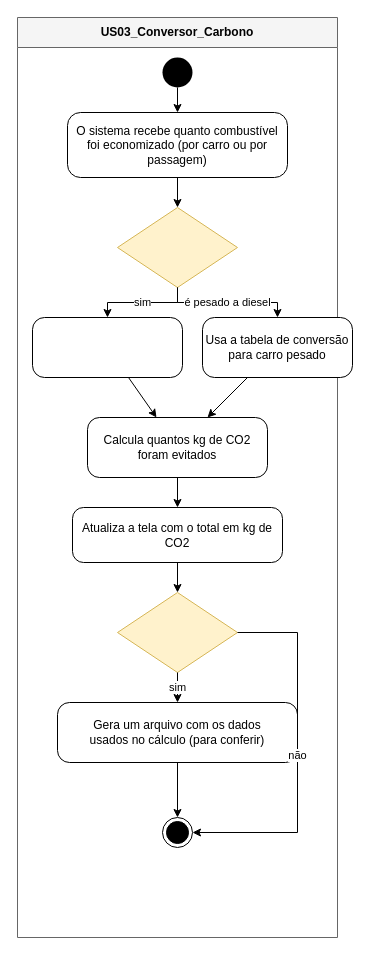
This 370x955 diagram has some shape labels left out. Here are the shapes that lost their labels. From the top down, the box of each, then its label:
(116, 206, 238, 288): É carro leve flex?
(32, 316, 182, 378): Usa a tabela de conversão para carro leve
(116, 592, 238, 672): Alguém pede o relatório?
